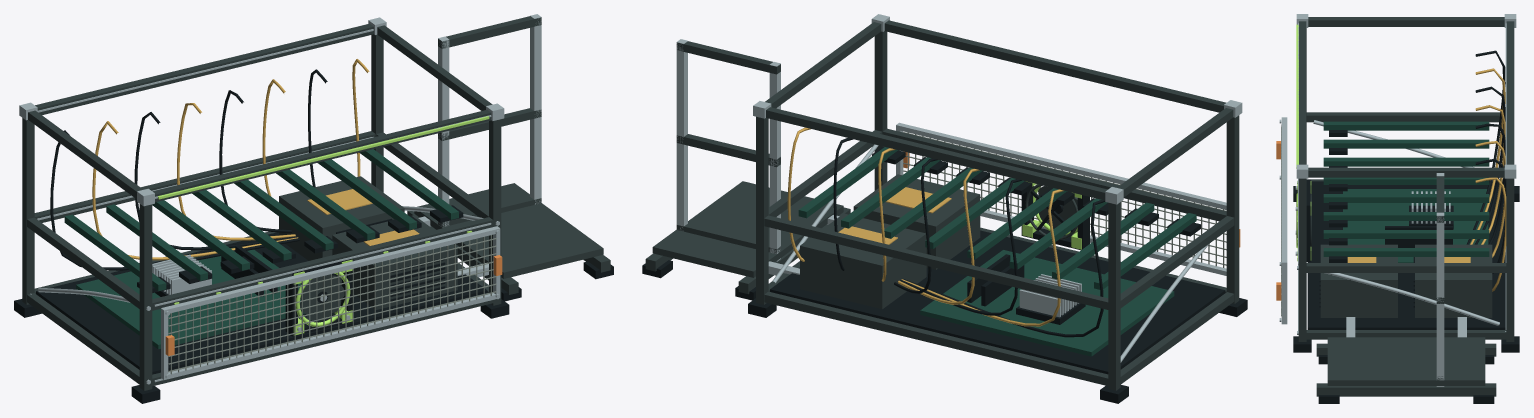
The model's file is rig-runtime-8-mesh-bracket.glb.
3 views of the same model, side by side, from view 1: azimuth 30°, elevation 25°; view 2: azimuth 150°, elevation 25°; view 3: azimuth 270°, elevation 25° (orthographic). The views are drawn at different scales.
Parts seen in each view (by area): view 1: Anodized graphite (×3), Circuit board, Brushed aluminium (×3), Rubber and ABS (×2), Filter fibres, rig-runtime-8-mesh-bracket, Contacts, Lime accents, slot-cable-1, slot-cable-2, slot-cable-3, slot-cable-4 (+1 smaller); view 2: Anodized graphite (×2), Circuit board, Rubber and ABS (×2), Brushed aluminium (×3), Filter fibres, Contacts, slot-cable-1, slot-cable-2, slot-cable-3, slot-cable-4, slot-cable-5, Lime accents; view 3: Anodized graphite (×2), Circuit board, Rubber and ABS (×3), Brushed aluminium (×3), slot-cable-1, slot-cable-2, rig-runtime-8-mesh-bracket, slot-cable-3, slot-cable-4, slot-cable-8, slot-cable-5, Contacts (+1 smaller).
Part boxes in pixels (x1,y1,x2,y2): Anodized graphite (×3): (22,16,610,390); Circuit board: (64,149,458,349); Brushed aluminium (×3): (19,14,541,384); Rubber and ABS (×2): (14,205,509,403); Filter fibres: (168,235,496,374); rig-runtime-8-mesh-bracket: (158,116,489,199); Contacts: (307,189,419,246); Lime accents: (293,259,352,335); slot-cable-1: (50,130,299,270); slot-cable-2: (92,121,298,260); slot-cable-3: (134,112,297,250); slot-cable-4: (177,103,295,240); Anodized graphite (×2): (645,20,1239,390); Circuit board: (798,147,1196,356); Rubber and ABS (×2): (748,146,1247,403); Brushed aluminium (×3): (676,14,1242,362); Filter fibres: (903,132,1226,267); Contacts: (838,187,951,244); slot-cable-1: (902,200,1105,337); slot-cable-2: (901,189,1063,326); slot-cable-3: (900,179,1021,315); slot-cable-4: (898,168,979,304); slot-cable-5: (894,158,937,293); Lime accents: (1022,181,1081,249); Anodized graphite (×2): (1298,17,1514,396); Circuit board: (1323,121,1489,262); Rubber and ABS (×3): (1293,130,1519,403); Brushed aluminium (×3): (1281,14,1516,386); slot-cable-1: (1466,50,1505,244); slot-cable-2: (1470,68,1505,244); rig-runtime-8-mesh-bracket: (1296,24,1298,168); slot-cable-3: (1474,86,1505,244); slot-cable-4: (1475,105,1505,244); slot-cable-8: (1475,177,1506,291); slot-cable-5: (1475,123,1505,244); Contacts: (1347,257,1470,262).
Size of the model in its own units: 8.02 by 3.32 by 3.94.
